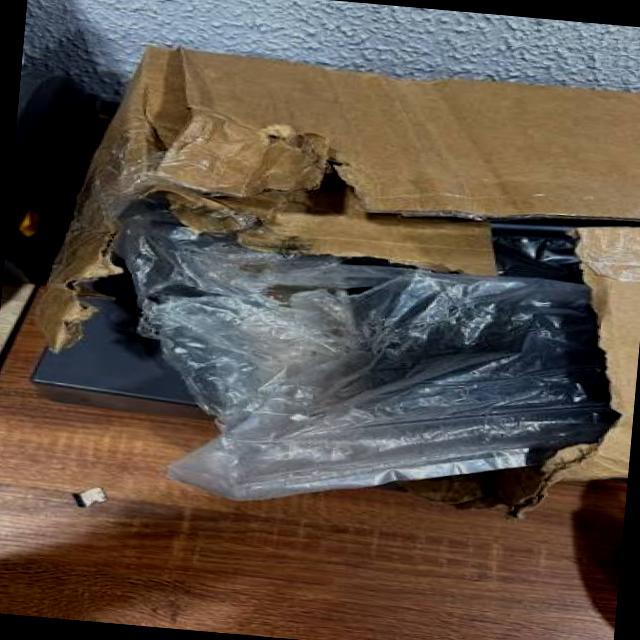package_damage: (21, 106, 640, 549)
